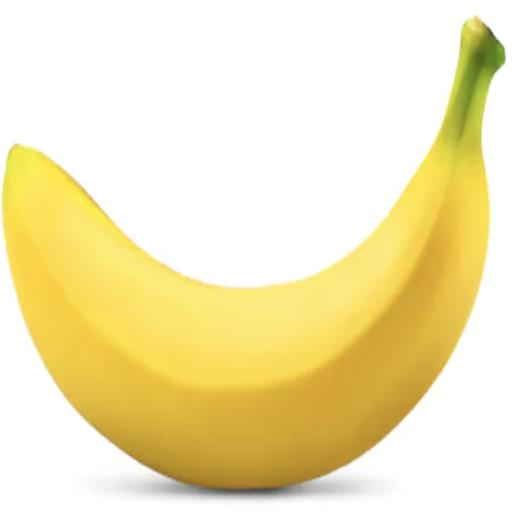banana: (2, 17, 504, 488)
